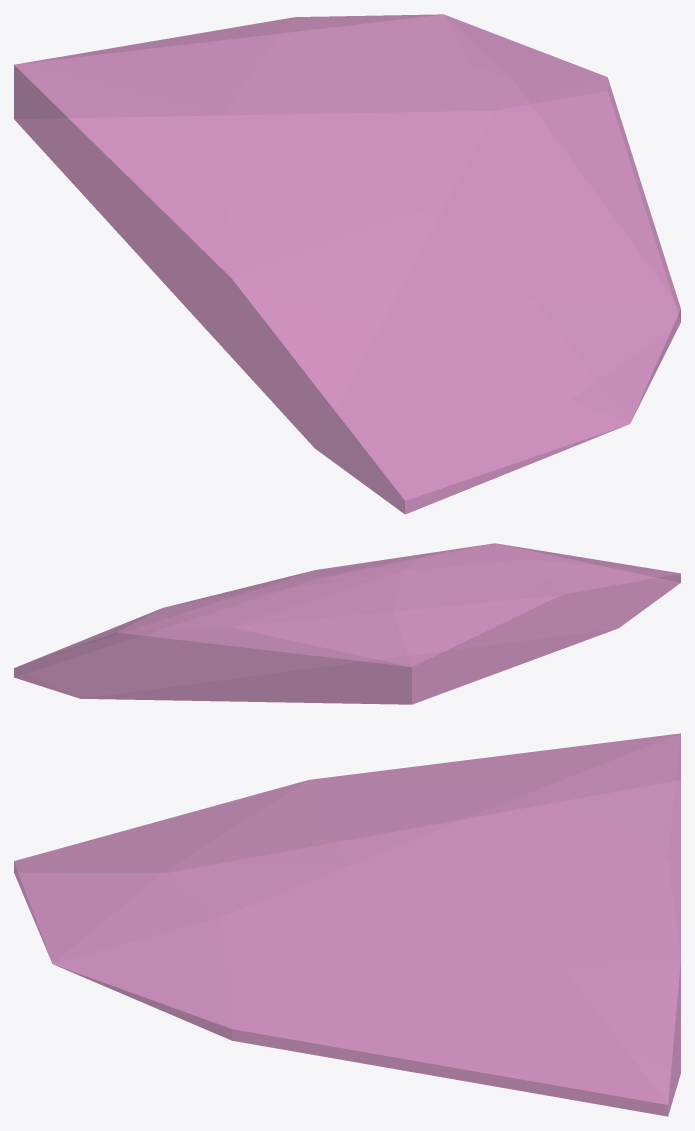
3 renders of one model, top to bottom at view 1: azimuth 30°, elevation 25°; view 2: azimuth 150°, elevation 25°; view 3: azimuth 270°, elevation 25°, orthographic. The views are drawn at different scales.
Parts seen in each view (by area): view 1: Shape_IndexedFaceSet.043_Shape_IndexedFaceSet.11835; view 2: Shape_IndexedFaceSet.043_Shape_IndexedFaceSet.11835; view 3: Shape_IndexedFaceSet.043_Shape_IndexedFaceSet.11835.
Boxes of the visible parts, bbox=[...] form: Shape_IndexedFaceSet.043_Shape_IndexedFaceSet.11835: bbox=[14, 14, 680, 514]; Shape_IndexedFaceSet.043_Shape_IndexedFaceSet.11835: bbox=[14, 543, 680, 704]; Shape_IndexedFaceSet.043_Shape_IndexedFaceSet.11835: bbox=[14, 733, 680, 1116].
Size of the model in its own units: 0.2266 by 0.0604 by 0.2619.
